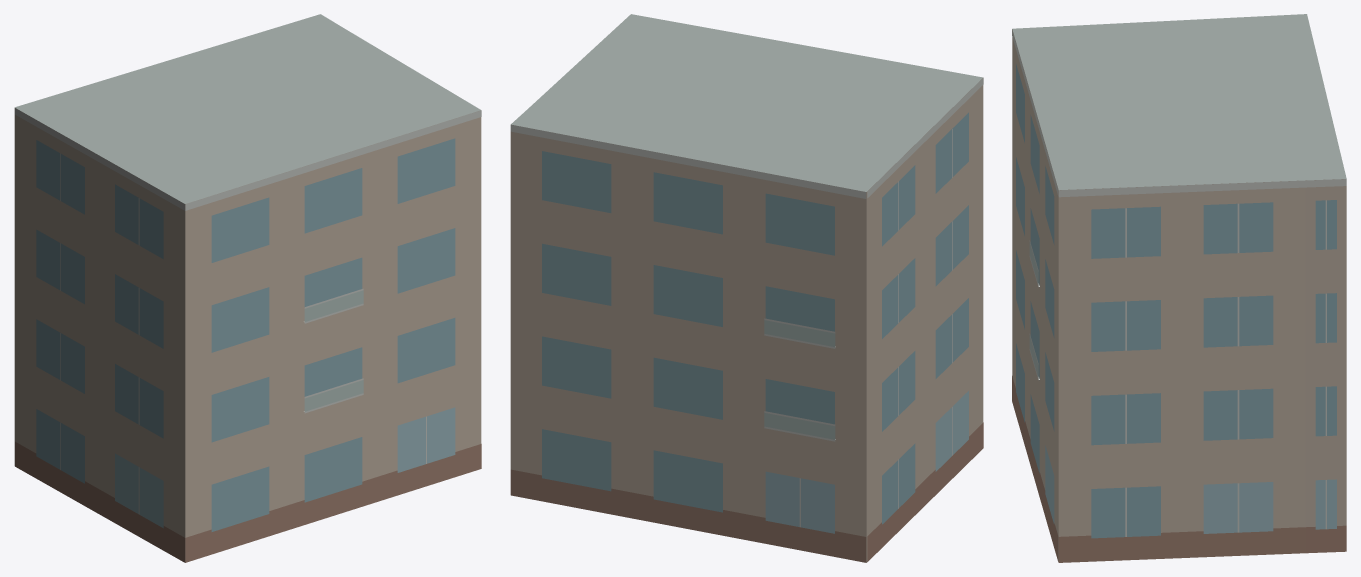
File: survey-upis-32655682.glb
The picture shows the model from 3 angles, left to right: view 1: azimuth 30°, elevation 25°; view 2: azimuth 150°, elevation 25°; view 3: azimuth 270°, elevation 25°; orthographic projection. The views are drawn at different scales.
Parts seen in each view (by area): view 1: survey-upis-32655682.tmp; view 2: survey-upis-32655682.tmp; view 3: survey-upis-32655682.tmp.
Boxes of the visible parts, x1,y1,x2,y2 form: survey-upis-32655682.tmp: (14, 14, 481, 562); survey-upis-32655682.tmp: (510, 14, 983, 562); survey-upis-32655682.tmp: (1012, 14, 1346, 562).
Size of the model in its own units: 12.98 by 12.8 by 10.42.
